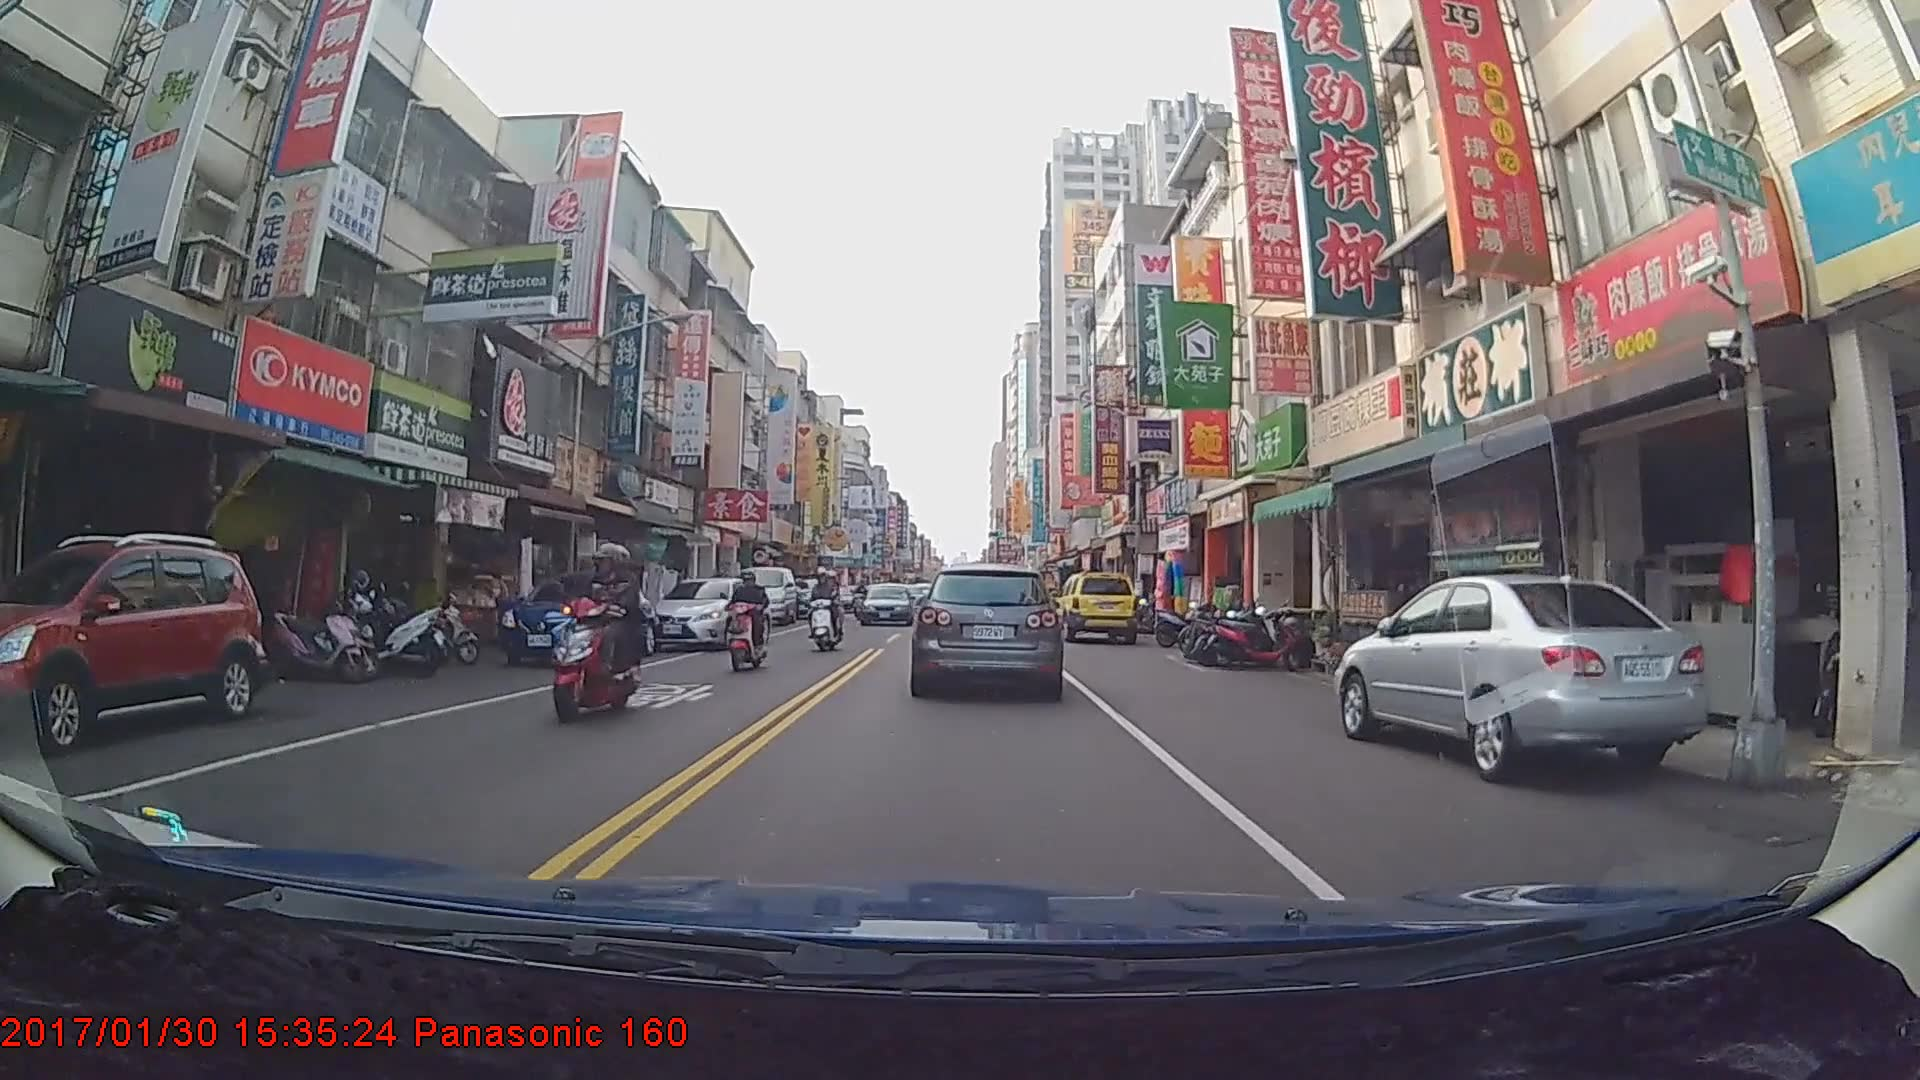rider: (550, 547, 643, 724), (724, 570, 772, 675), (800, 570, 845, 656)
vehicle: (1334, 571, 1709, 785), (0, 536, 262, 746), (910, 562, 1061, 697), (495, 569, 657, 667), (643, 575, 770, 649), (1054, 568, 1140, 643), (736, 565, 798, 624), (854, 581, 917, 626)
